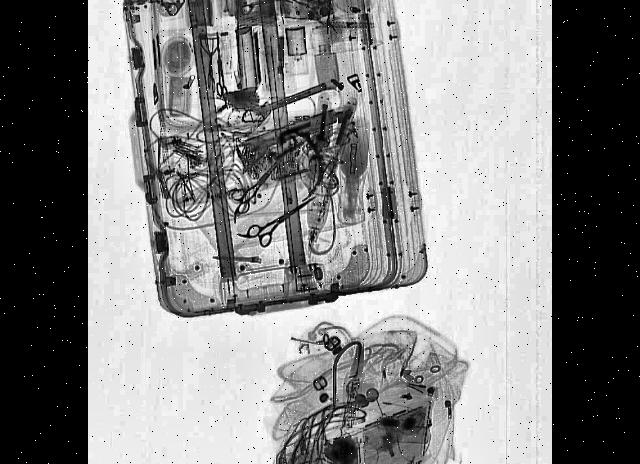Scissors: (248, 185, 320, 256), (230, 145, 288, 219), (214, 46, 230, 100), (208, 36, 218, 92)
